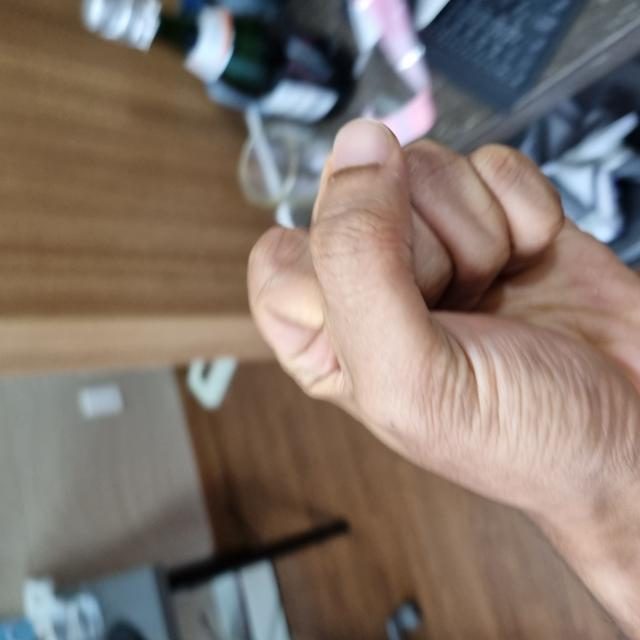Rock: (97, 244, 520, 639)
